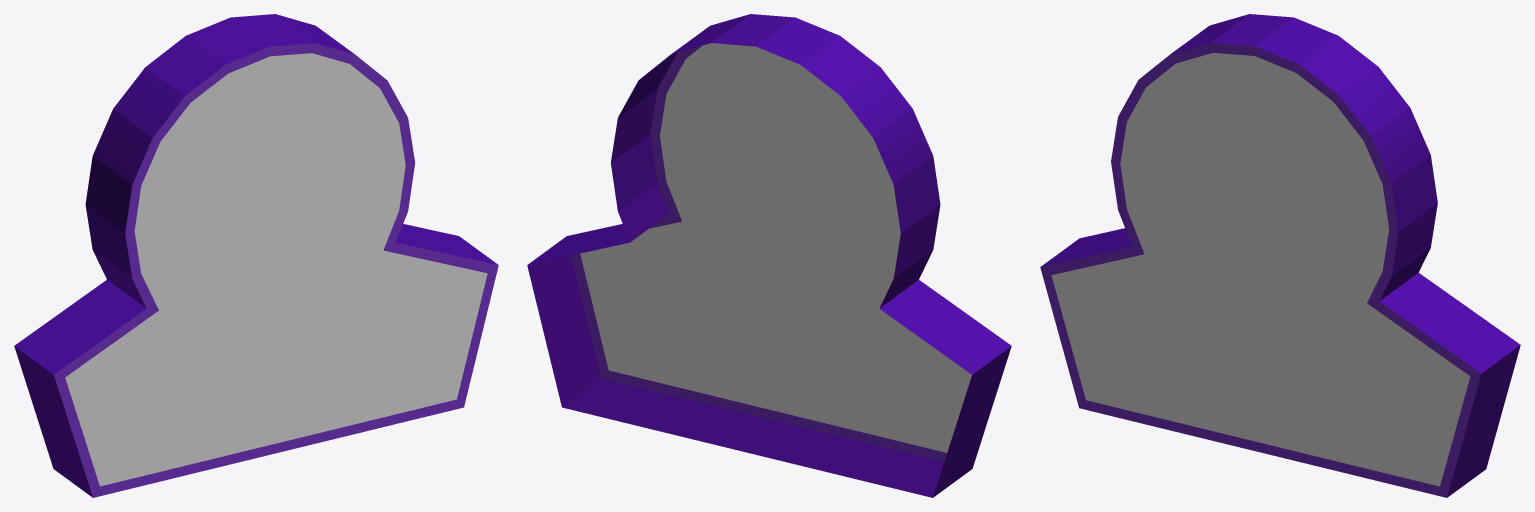
Rendered from ClothingSign.fbx.
3 views of the same model, side by side, from view 1: azimuth 30°, elevation 25°; view 2: azimuth 150°, elevation 25°; view 3: azimuth 330°, elevation 25° (orthographic).
Parts seen in each view (by area): view 1: ClothingSign; view 2: ClothingSign; view 3: ClothingSign.
Boxes of the visible parts, bbox=[...] form: ClothingSign: bbox=[14, 14, 498, 497]; ClothingSign: bbox=[527, 14, 1011, 497]; ClothingSign: bbox=[1040, 14, 1520, 497].
Bounding box in the file's own units: 78.03 × 68.41 × 12.04.
